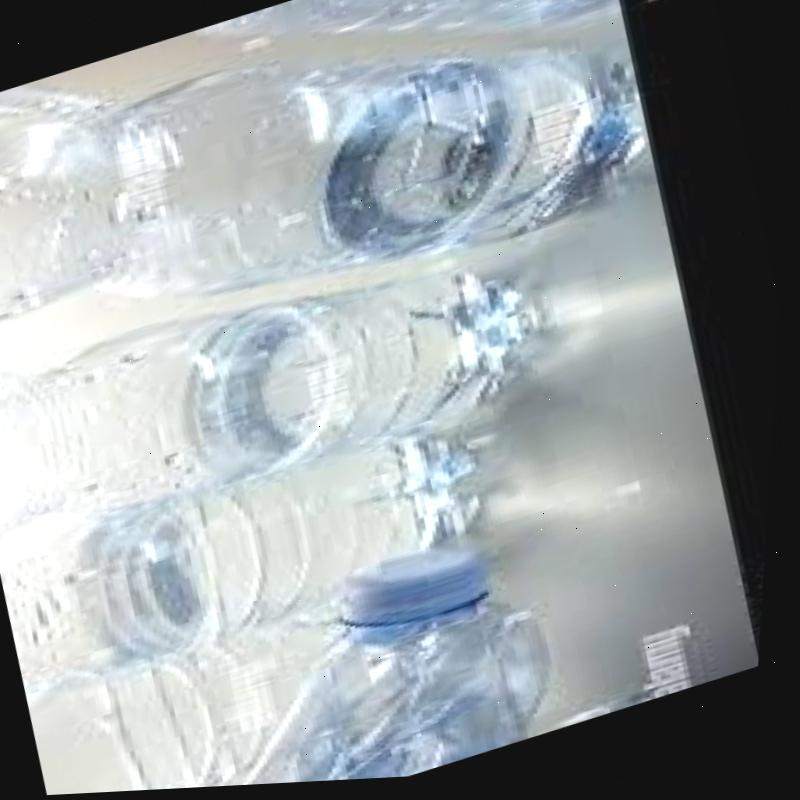botella: (0, 0, 671, 410), (0, 202, 563, 559), (0, 409, 520, 703), (161, 519, 584, 792), (30, 602, 393, 797), (184, 0, 622, 143)
